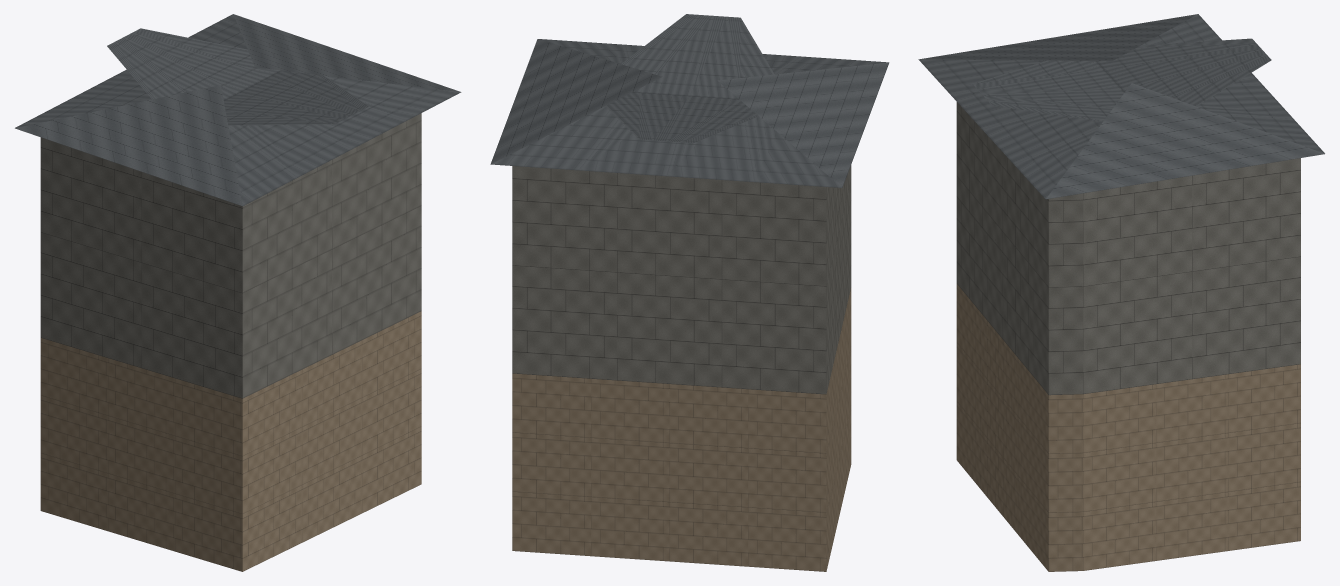
Rendered from bld_c-2_17_531.gltf.
3 renders of one model, left to right at view 1: azimuth 30°, elevation 25°; view 2: azimuth 150°, elevation 25°; view 3: azimuth 270°, elevation 25°, orthographic. The views are drawn at different scales.
Parts seen in each view (by area): view 1: bld_c-2_17_531; view 2: bld_c-2_17_531; view 3: bld_c-2_17_531.
Part boxes in pixels (box(x1,y1,x2,y2)): bld_c-2_17_531: box(15, 14, 461, 571); bld_c-2_17_531: box(490, 14, 889, 571); bld_c-2_17_531: box(918, 14, 1324, 571).
Bounding box in the file's own units: 11.48 × 12.3 × 10.65.
Materials: 3 (3 with a texture image).
